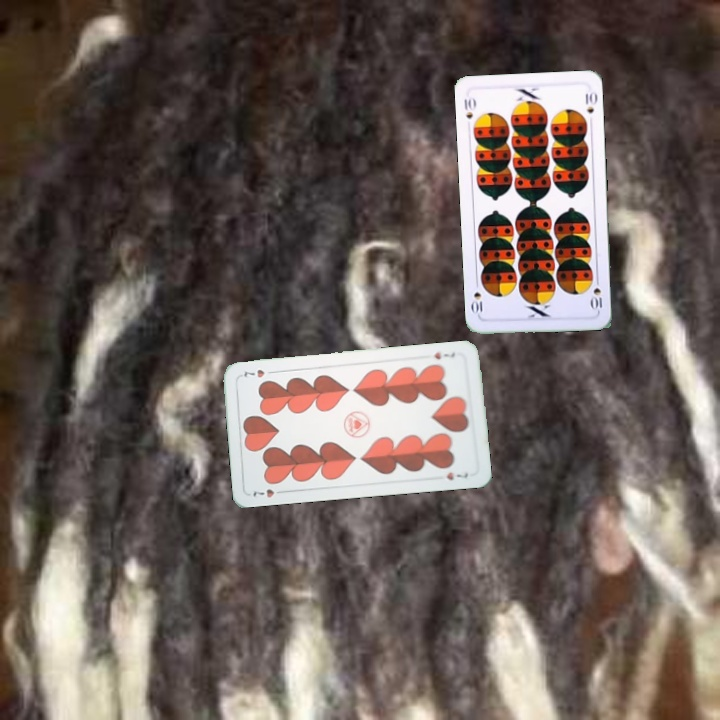H7: (249, 485, 288, 500), (430, 348, 457, 362)
S10: (588, 273, 604, 313), (460, 94, 478, 121)
